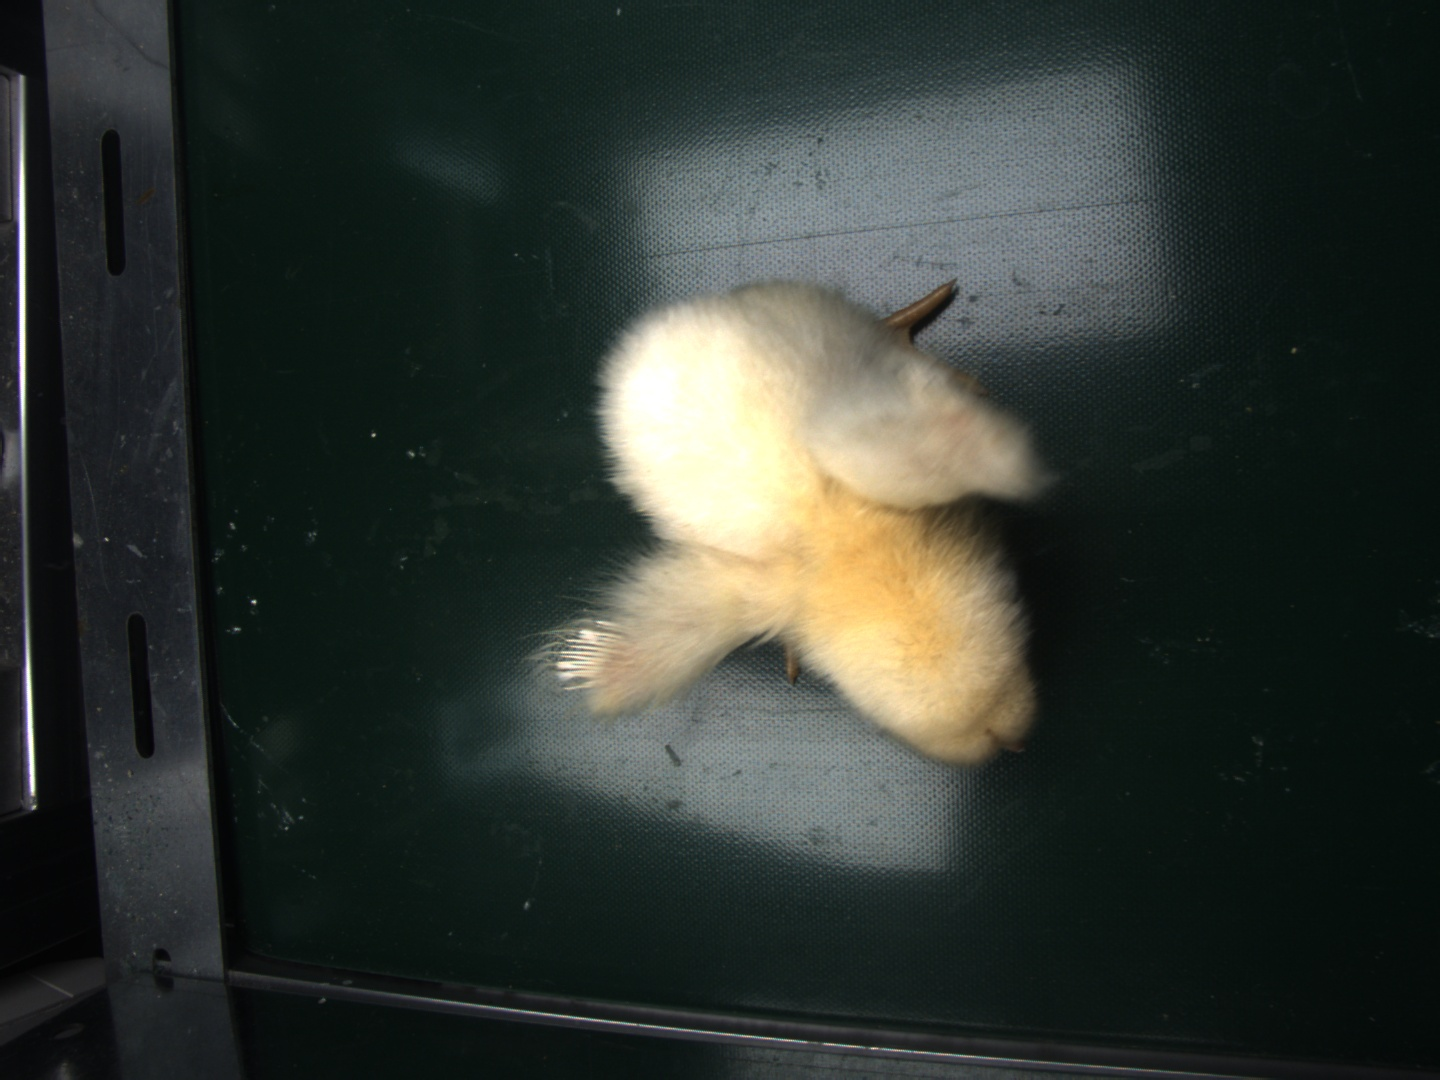male: (548, 621, 624, 689)
